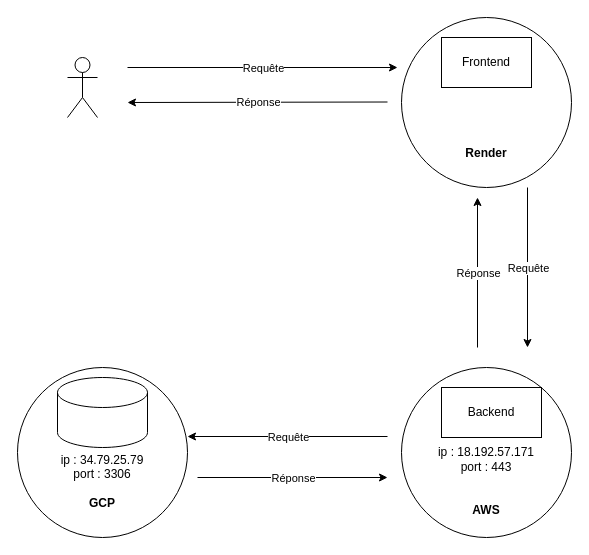
Image size: 589x555. Some labels were removed from this diagram. Here are the shapes that lost their labels. From the top down, the centre of each, then its label:
At pixel 82 87: "Actor".
At pixel 102 412: "DB".
